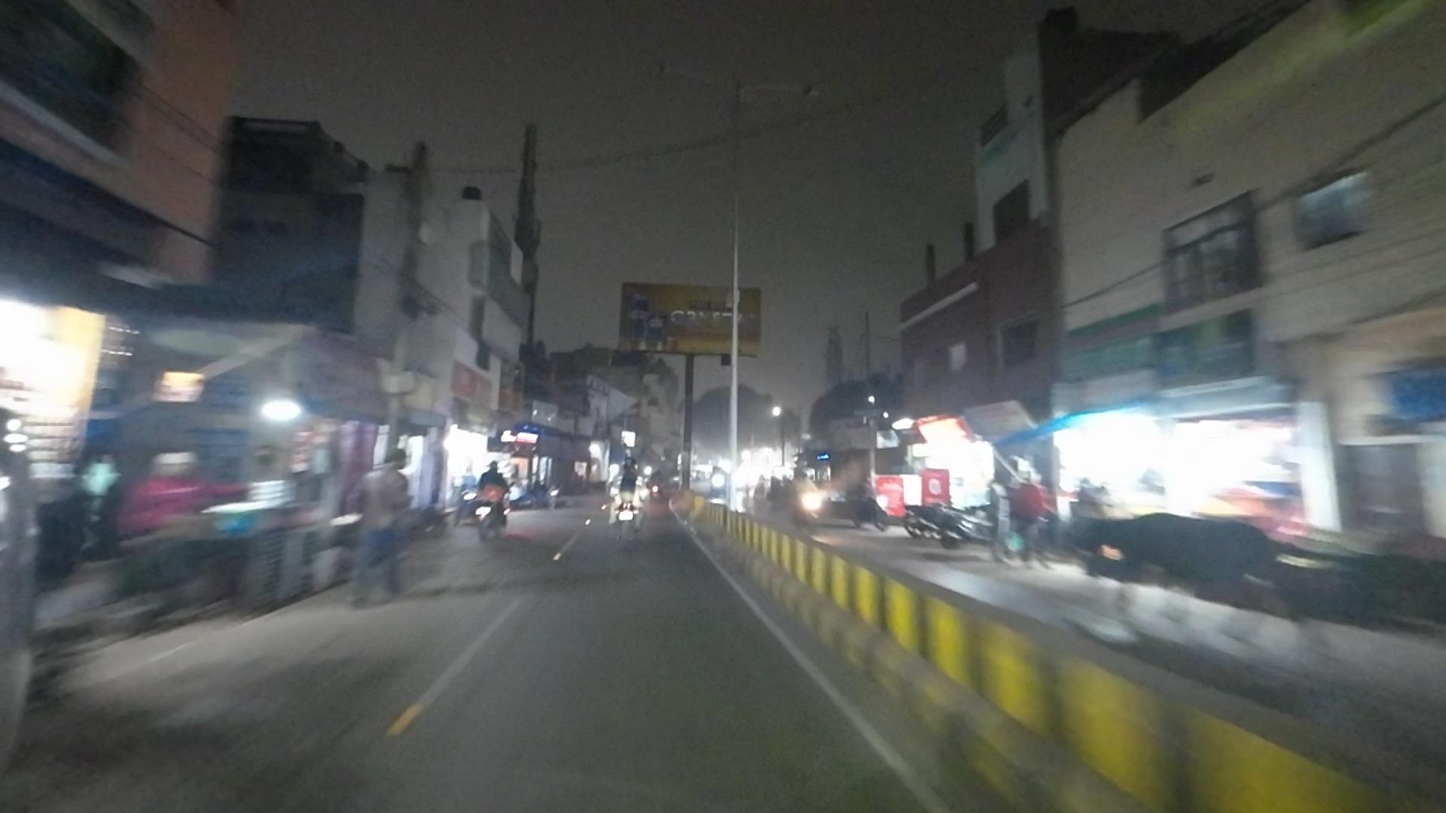streetlight: (650, 58, 731, 93), (749, 78, 822, 102)
